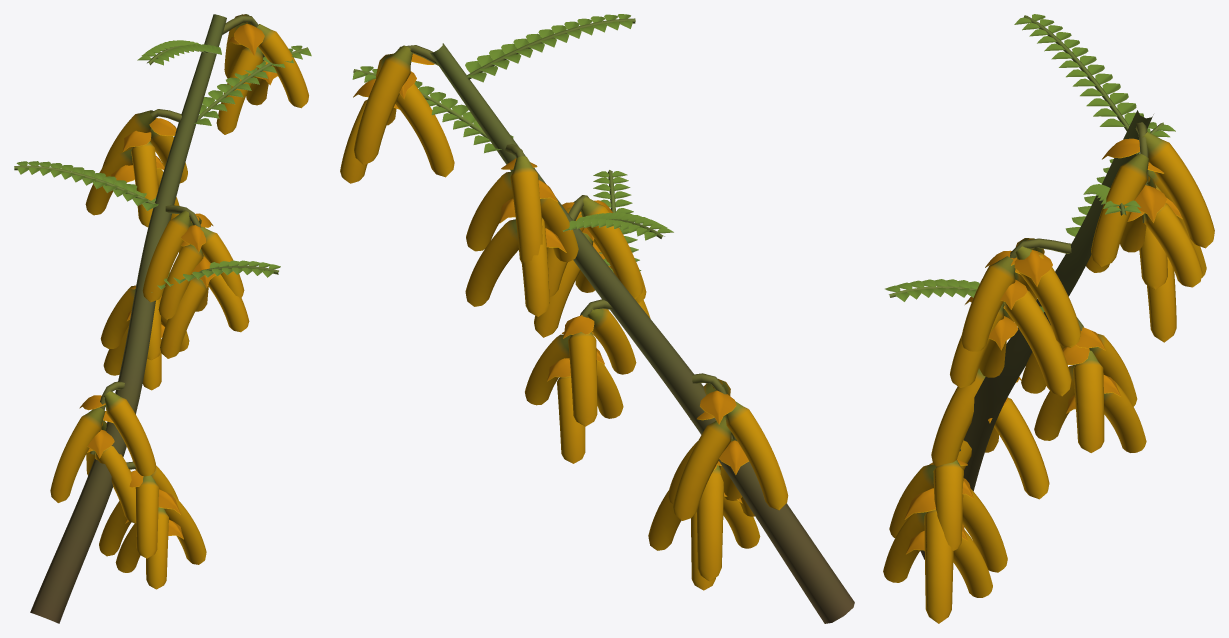
The model's file is manu-kowhai.glb.
3 renders of one model, left to right at view 1: azimuth 30°, elevation 25°; view 2: azimuth 150°, elevation 25°; view 3: azimuth 270°, elevation 25°, orthographic. The views are drawn at different scales.
Visible parts, largest first — view 1: flowers, stem, leaves; view 2: flowers, stem, leaves; view 3: flowers, stem, leaves.
Boxes of the visible parts, <box> form: flowers: <box>50,14,308,589</box>; stem: <box>14,14,308,623</box>; leaves: <box>16,40,311,292</box>; flowers: <box>340,45,788,590</box>; stem: <box>353,18,854,623</box>; leaves: <box>352,14,673,272</box>; flowers: <box>883,131,1214,623</box>; stem: <box>889,15,1164,559</box>; leaves: <box>885,14,1175,312</box>.
Size of the model in its own units: 0.051 by 0.0704 by 0.0337.
